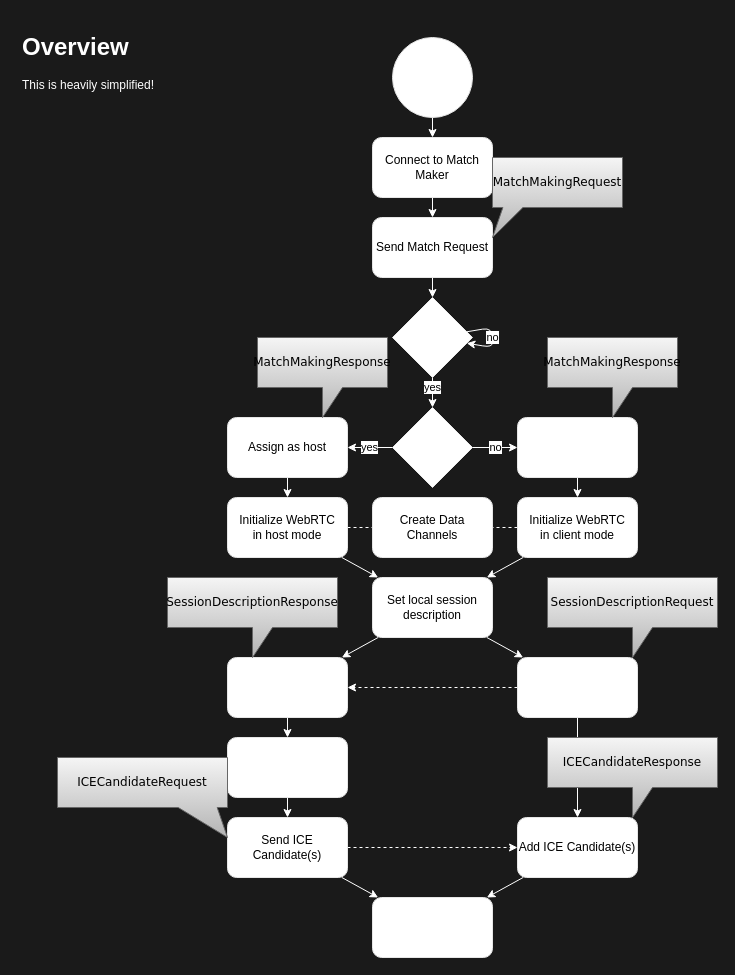
Image size: 735x975. Some labels were removed from this diagram. Here are the shapes that lost their labels. From the top down, the box of each, then its label:
(392, 36, 472, 118): Peer
(392, 296, 472, 378): is filled?
(392, 406, 472, 488): is first peer?
(516, 416, 638, 478): Assign as client
(226, 656, 348, 718): Set remote session description
(516, 656, 638, 718): Send remote session description
(226, 736, 348, 798): Create Offer
(372, 896, 492, 958): Connection should exist
